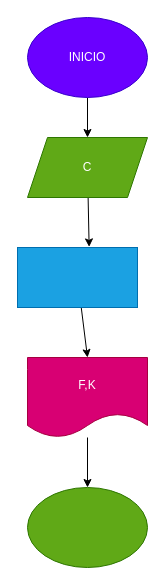
This 165x585 diagram has some shape labels left out. The centre of each missing label's shape, as x and y in pixels:
"FIN" goes at [87,527].
"K=C+273.15 F=1.8*C+32" goes at [77,277].
